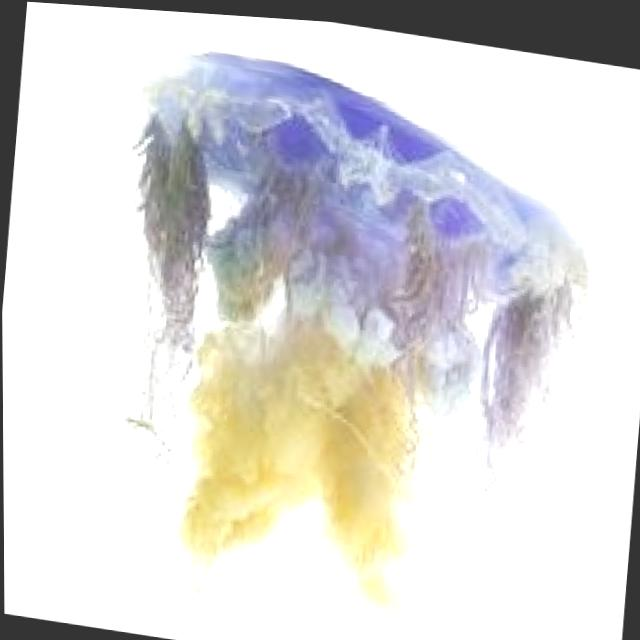Box-jellyfish: (84, 28, 608, 640)
